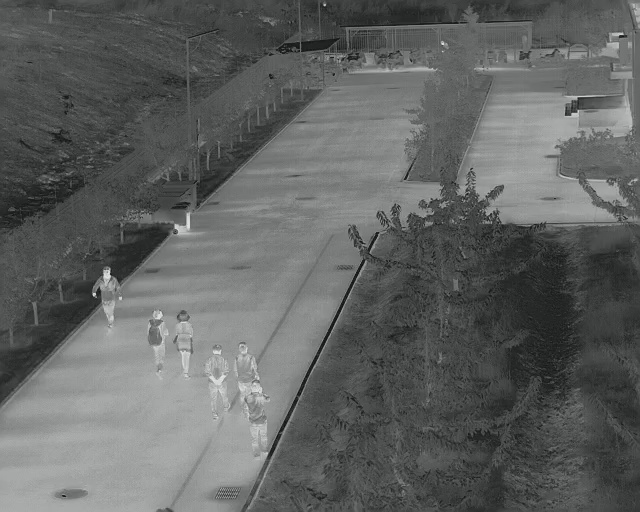person: (244, 382, 270, 455), (93, 266, 120, 328), (205, 347, 228, 419), (148, 308, 167, 376), (233, 343, 252, 407), (173, 311, 191, 378)
